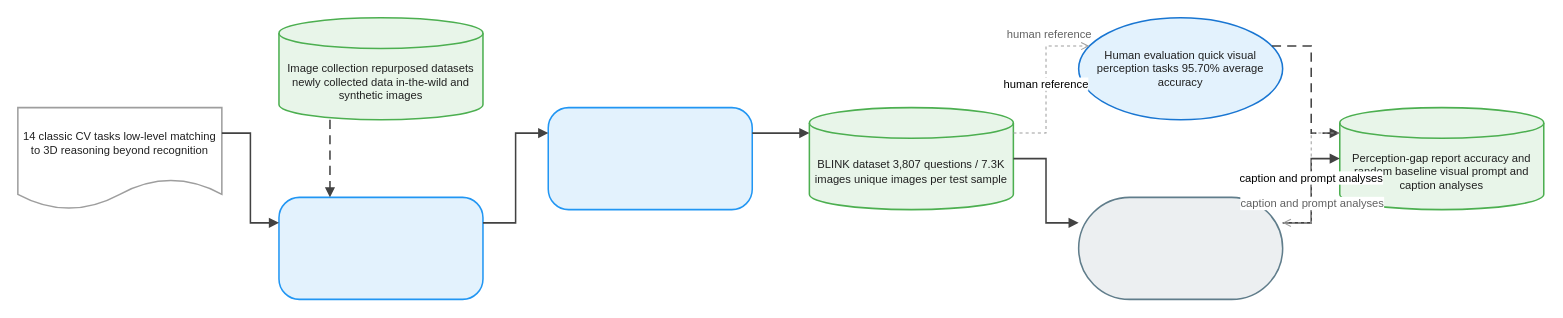
Some shapes in this 1563 by 318 pixel diagram are drawn without their labels. Each missing label, with the centre of its shape:
"MCQA conversion text or image answer choices single and multi-image questions" goes at point 380,248.
"MLLM evaluation VLMEvalKit-style setup temperature 0 and retries" goes at point 1180,248.
"Visual prompting highlight regions interleaved image-text format" goes at point 650,158.
